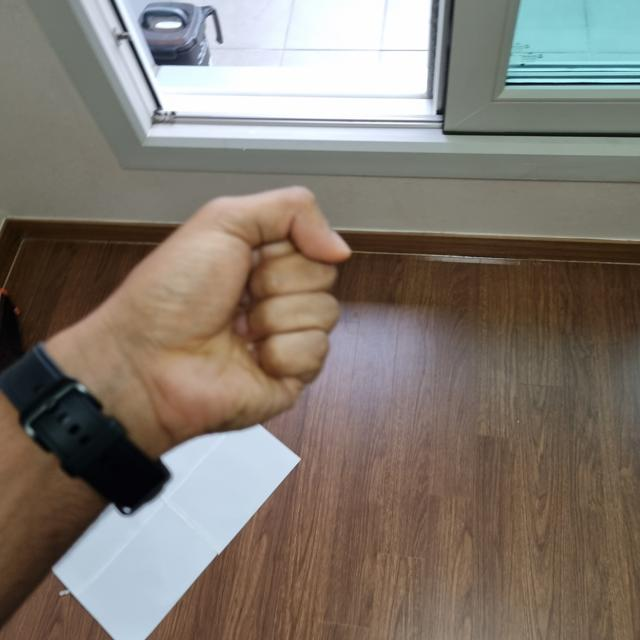Rock: (51, 188, 348, 450)
